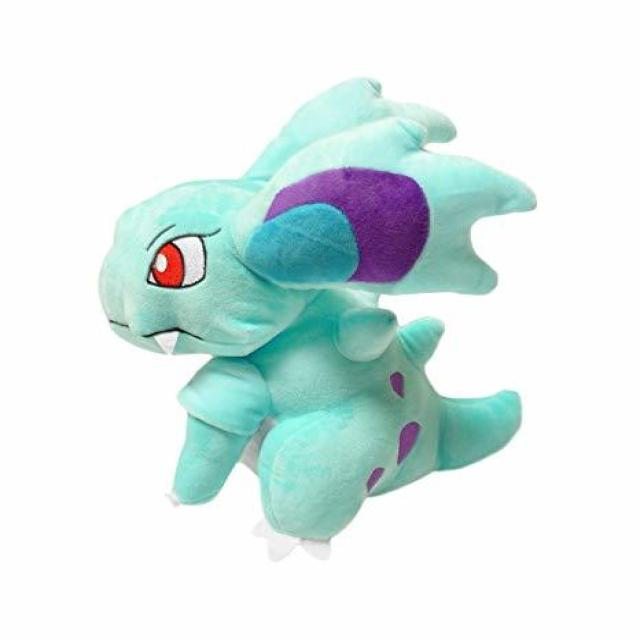Nidorina: (100, 80, 529, 543)
